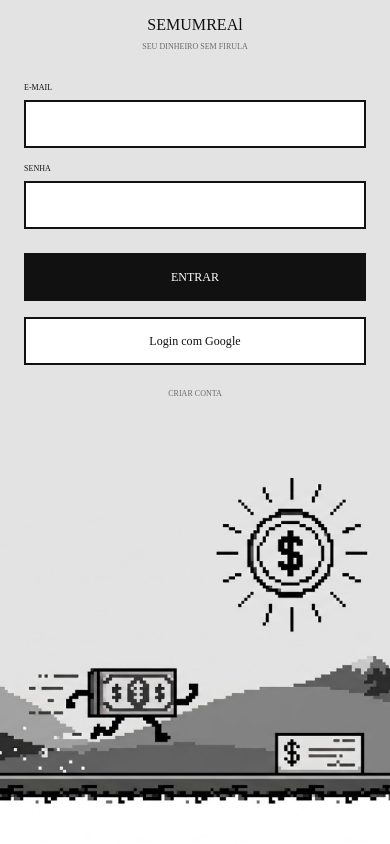
Scenario: <LoginScreen /> › mostra o fallback quando o erro não é ApiError
Type "ana@exemplo.com" into the field named "E-MAIL" at (195, 124), box [24,100,366,148]
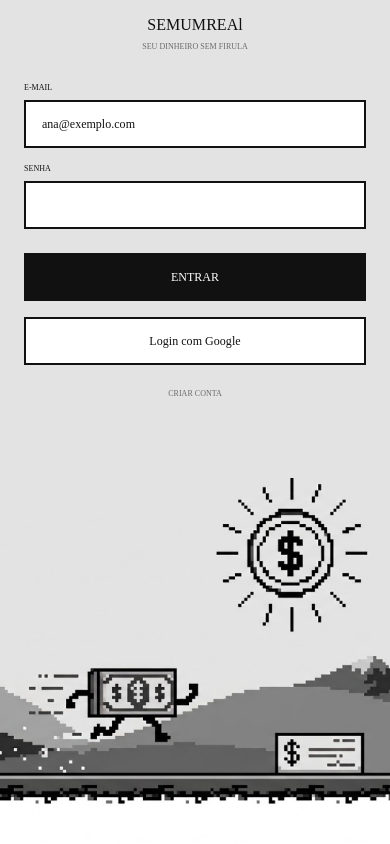
Type "12345678" into the password field named "SENHA" at (195, 205), box [24,181,366,229]
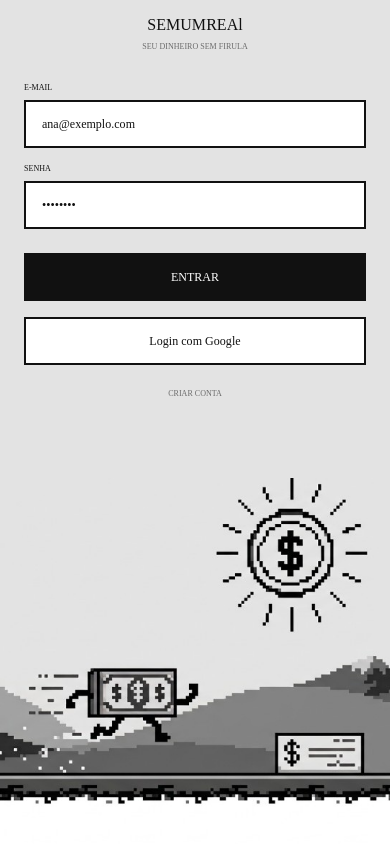
Click the button "ENTRAR" at (195, 277), box [24,253,366,301]
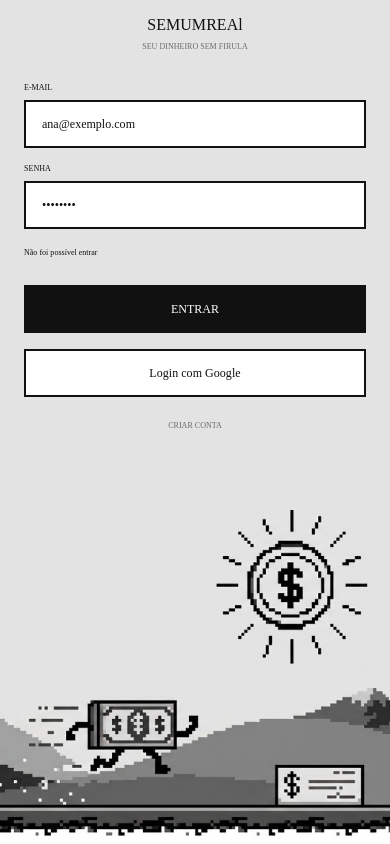
expect the text "Não foi possível entrar" is shown: met, box [24,248,98,257]
